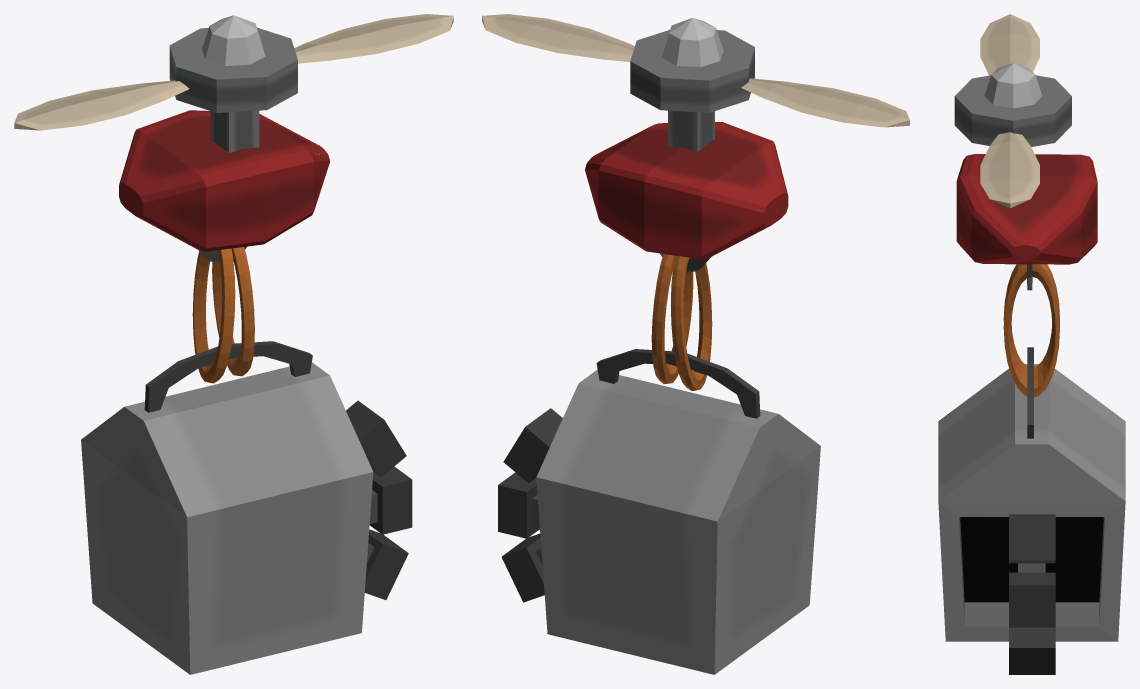
Rendered from killer drone for shmup boss.fbx.
3 views of the same model, side by side, from view 1: azimuth 30°, elevation 25°; view 2: azimuth 150°, elevation 25°; view 3: azimuth 270°, elevation 25° (orthographic). The views are drawn at different scales.
Visible parts, largest first — view 1: shooting drone box.002, turning propellor; view 2: shooting drone box.002, turning propellor; view 3: shooting drone box.002, turning propellor.
Part boxes in pixels (bbox=[...]): shooting drone box.002: bbox=[81, 110, 412, 674]; turning propellor: bbox=[14, 14, 453, 152]; shooting drone box.002: bbox=[498, 122, 820, 674]; turning propellor: bbox=[482, 14, 909, 151]; shooting drone box.002: bbox=[938, 154, 1125, 674]; turning propellor: bbox=[954, 14, 1071, 208].
Size of the model in its own units: 462 by 623 by 193.
